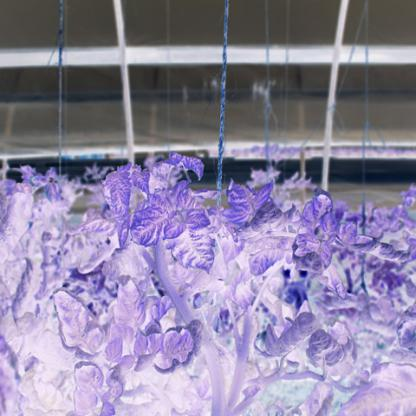tomato leaf yellow virus: (219, 173, 276, 248), (51, 285, 107, 355), (145, 319, 213, 373), (131, 193, 197, 246), (244, 240, 295, 275)
